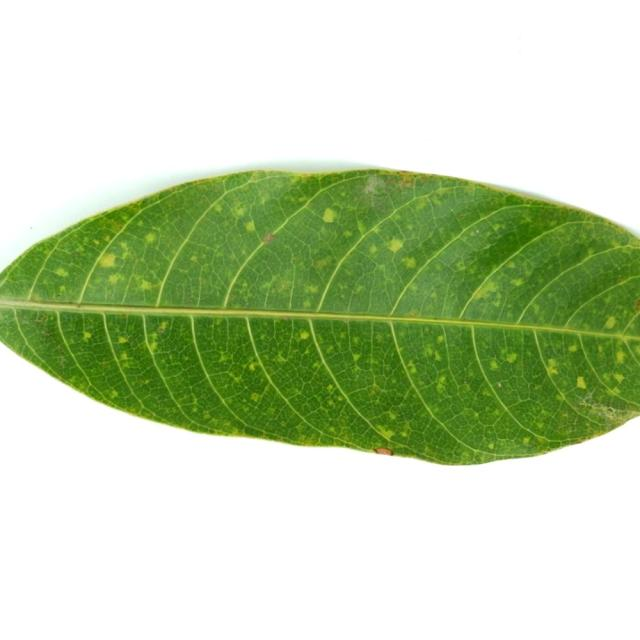Mango: (0, 170, 639, 464)
Powdery_Mildew: (136, 324, 190, 369), (360, 174, 396, 214), (577, 398, 628, 420), (0, 306, 28, 342), (317, 201, 344, 229), (568, 243, 593, 265), (220, 427, 249, 437), (98, 253, 117, 268), (480, 280, 499, 294), (41, 321, 55, 338), (165, 183, 185, 194), (388, 238, 403, 252), (378, 426, 394, 439), (314, 257, 332, 268), (414, 198, 429, 211), (433, 186, 452, 196), (373, 447, 394, 456), (356, 220, 368, 235), (139, 279, 153, 291), (107, 273, 121, 285), (31, 296, 49, 305), (604, 317, 617, 329), (505, 352, 518, 364), (386, 411, 399, 423), (54, 267, 69, 277), (398, 176, 413, 186), (35, 313, 50, 323), (404, 257, 416, 269), (233, 205, 245, 217), (615, 350, 626, 363), (144, 232, 157, 243), (576, 377, 587, 389), (263, 233, 275, 244), (613, 373, 625, 384), (461, 450, 473, 461), (617, 276, 630, 286), (294, 171, 315, 177), (245, 220, 255, 232), (376, 263, 388, 273), (353, 284, 365, 294), (459, 382, 471, 392), (148, 342, 158, 353), (437, 375, 447, 386), (296, 425, 307, 435), (512, 277, 524, 286), (249, 172, 261, 181), (368, 244, 378, 254), (299, 330, 309, 340), (407, 365, 417, 375), (213, 203, 223, 213), (218, 354, 229, 363), (433, 351, 442, 362), (489, 361, 499, 370), (82, 331, 92, 340), (568, 343, 578, 352), (158, 321, 168, 330), (352, 353, 362, 362), (232, 375, 242, 384), (277, 354, 287, 363), (250, 393, 260, 402), (492, 222, 502, 231), (482, 388, 492, 397), (370, 384, 380, 393), (307, 285, 318, 293), (117, 336, 128, 344), (70, 301, 82, 308), (407, 311, 419, 318), (436, 335, 445, 344), (248, 362, 257, 371), (400, 428, 409, 437), (456, 261, 465, 270), (470, 410, 479, 419), (547, 358, 557, 366), (612, 387, 622, 395), (311, 362, 321, 370), (532, 303, 540, 313), (71, 250, 81, 258), (120, 353, 129, 361), (109, 390, 118, 398), (58, 285, 66, 293), (339, 331, 347, 339), (203, 412, 211, 420), (240, 281, 248, 289), (556, 393, 565, 400), (189, 255, 198, 262), (281, 315, 291, 321), (634, 239, 640, 249), (303, 300, 311, 307), (352, 337, 360, 344), (536, 422, 544, 429), (328, 399, 335, 407), (268, 408, 275, 416), (375, 335, 383, 342), (328, 384, 335, 391), (523, 437, 530, 444), (493, 299, 500, 306), (137, 221, 144, 228), (636, 297, 640, 309), (328, 427, 336, 433), (396, 171, 405, 176), (93, 239, 100, 245), (487, 443, 494, 449), (430, 292, 437, 298), (341, 318, 349, 323), (188, 297, 194, 303), (192, 407, 197, 413), (120, 313, 126, 318), (281, 421, 286, 426), (497, 382, 502, 387), (475, 229, 480, 234), (245, 302, 249, 306), (30, 227, 33, 230)
